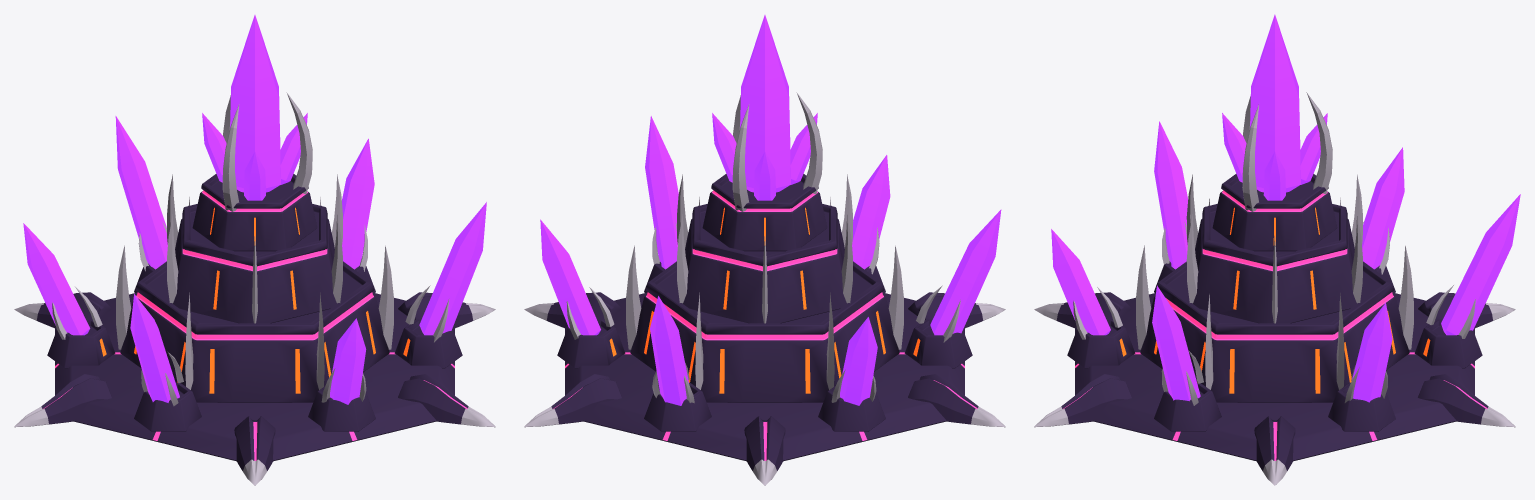
File: alien_city_b.glb
3 views of the same model, side by side, from view 1: azimuth 30°, elevation 25°; view 2: azimuth 150°, elevation 25°; view 3: azimuth 270°, elevation 25° (orthographic).
Parts seen in each view (by area): view 1: AlienCityB; view 2: AlienCityB; view 3: AlienCityB.
Boxes of the visible parts, box(x1,y1,x2,y2) form: AlienCityB: box(14, 15, 495, 485); AlienCityB: box(524, 15, 1005, 485); AlienCityB: box(1034, 14, 1520, 485).
Size of the model in its own units: 39.81 by 28 by 34.84.
